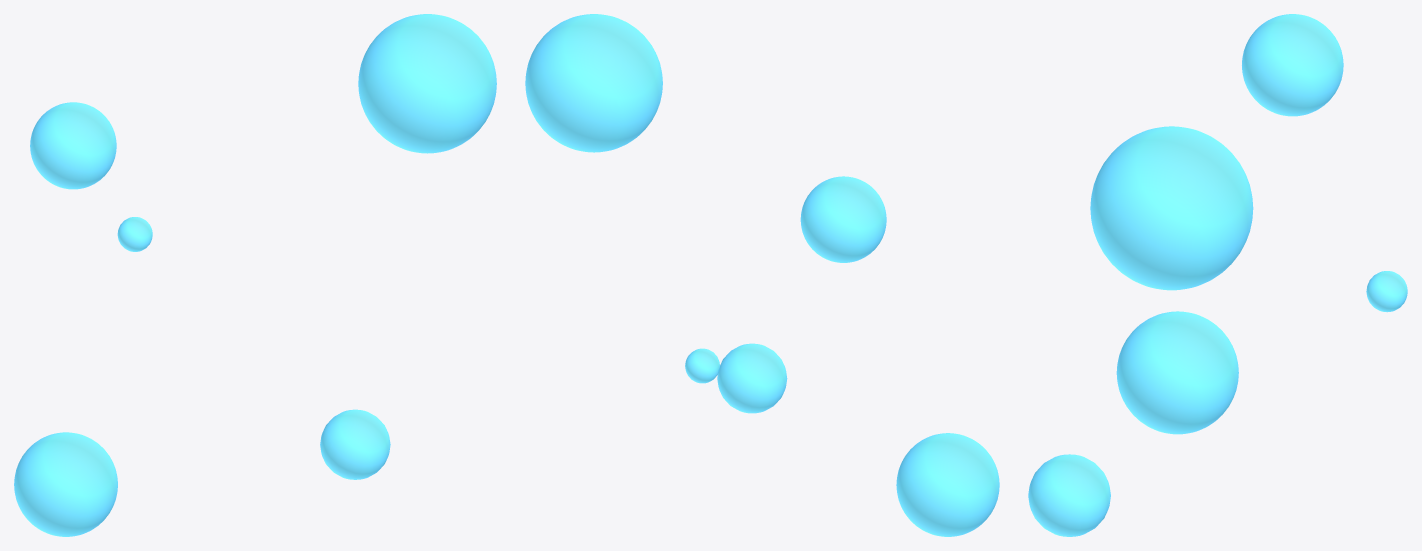
The model's file is BubblesV2.glb.
The picture shows the model from 3 angles, left to right: view 1: azimuth 30°, elevation 25°; view 2: azimuth 150°, elevation 25°; view 3: azimuth 270°, elevation 25°; orthographic projection. The views are drawn at different scales.
Parts seen in each view (by area): view 1: Bubble001, Bubble003, Bubble002, Bubble004, Bubble005; view 2: Bubble001, Bubble003, Bubble002, Bubble004, Bubble005; view 3: Bubble001, Bubble003, Bubble002, Bubble004, Bubble005.
Part boxes in pixels (box(x1,y1,x2,y2)): Bubble001: box(358, 14, 496, 153); Bubble003: box(14, 432, 117, 536); Bubble002: box(30, 102, 116, 189); Bubble004: box(320, 409, 390, 479); Bubble005: box(117, 217, 152, 251); Bubble001: box(525, 14, 662, 152); Bubble003: box(896, 433, 999, 536); Bubble002: box(800, 176, 886, 262); Bubble004: box(717, 343, 787, 413); Bubble005: box(685, 348, 719, 383); Bubble001: box(1090, 126, 1253, 290); Bubble003: box(1116, 311, 1238, 434); Bubble002: box(1242, 14, 1343, 116); Bubble004: box(1028, 454, 1110, 536); Bubble005: box(1366, 271, 1407, 312).
Size of the model in its own units: 1.22 by 1.07 by 0.733.
